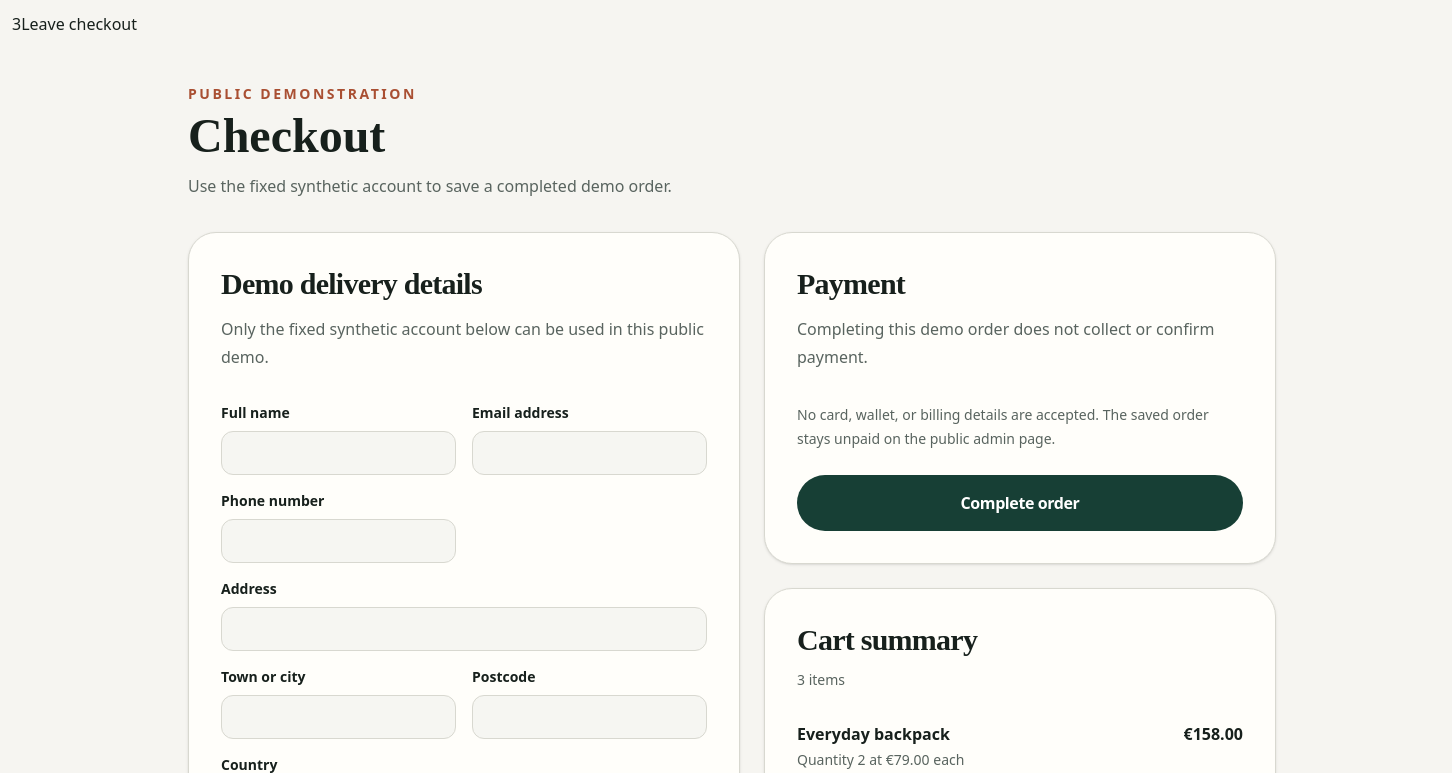
Test: CheckoutPage › validates demo-account selection without submitting or clearing the cart
The width and height of the screenshot is (1452, 773).
Click the button "Complete order" at (1020, 502), box [797,474,1243,530]
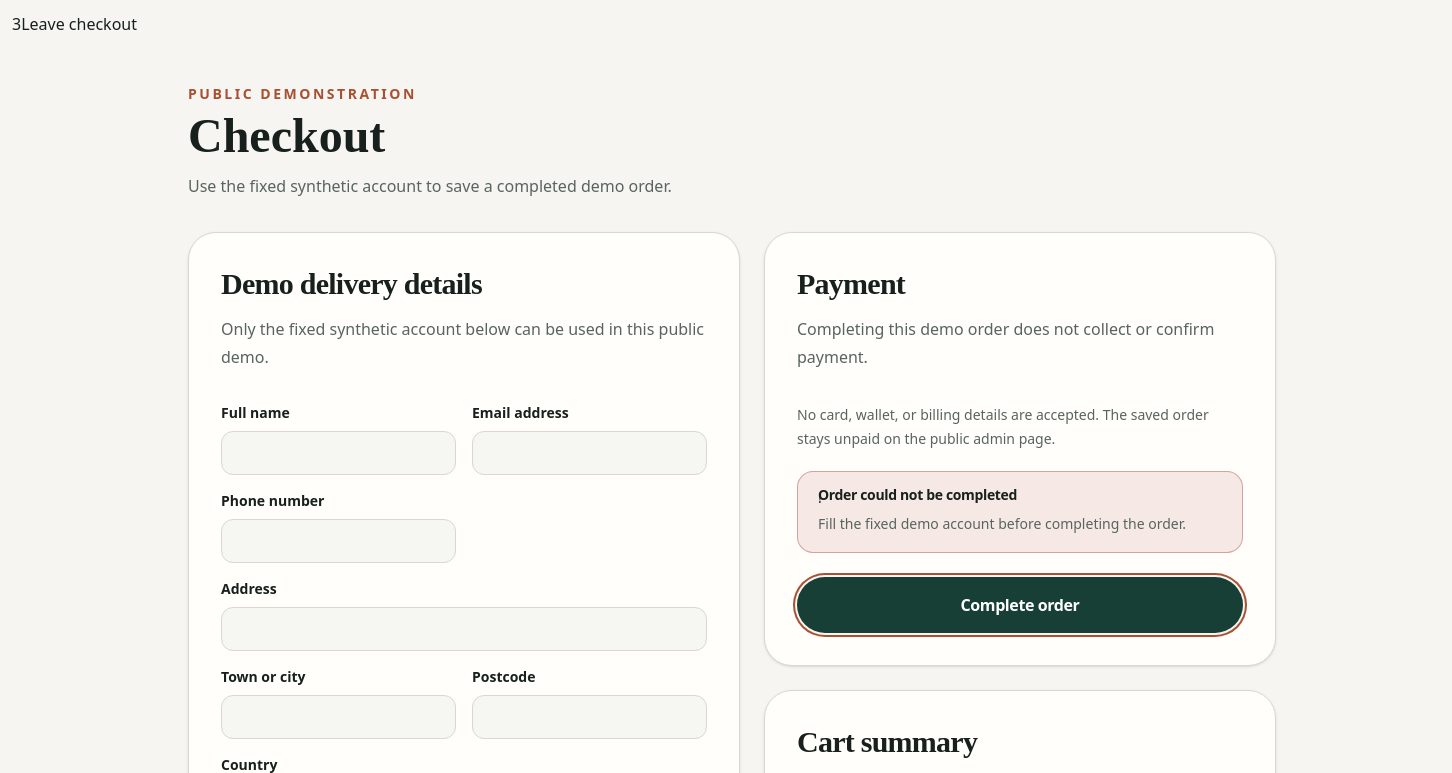
Expected: the text named "Cart item count" reads "3", [12,13,21,35]
Now the message shows "Fill the fixed demo account before completing the order.", box [818,514,1186,532]
